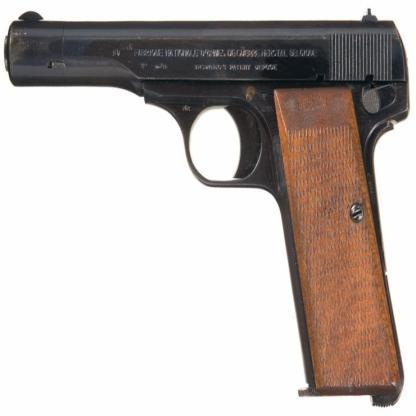gun: (2, 3, 415, 412)
